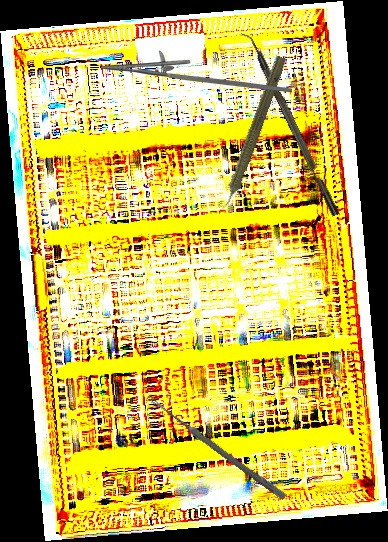Chopper: (236, 27, 340, 222)
Handpiece: (212, 52, 290, 219)
Needle Holder: (101, 50, 292, 93)
Surgical Spoon: (147, 395, 288, 501)
